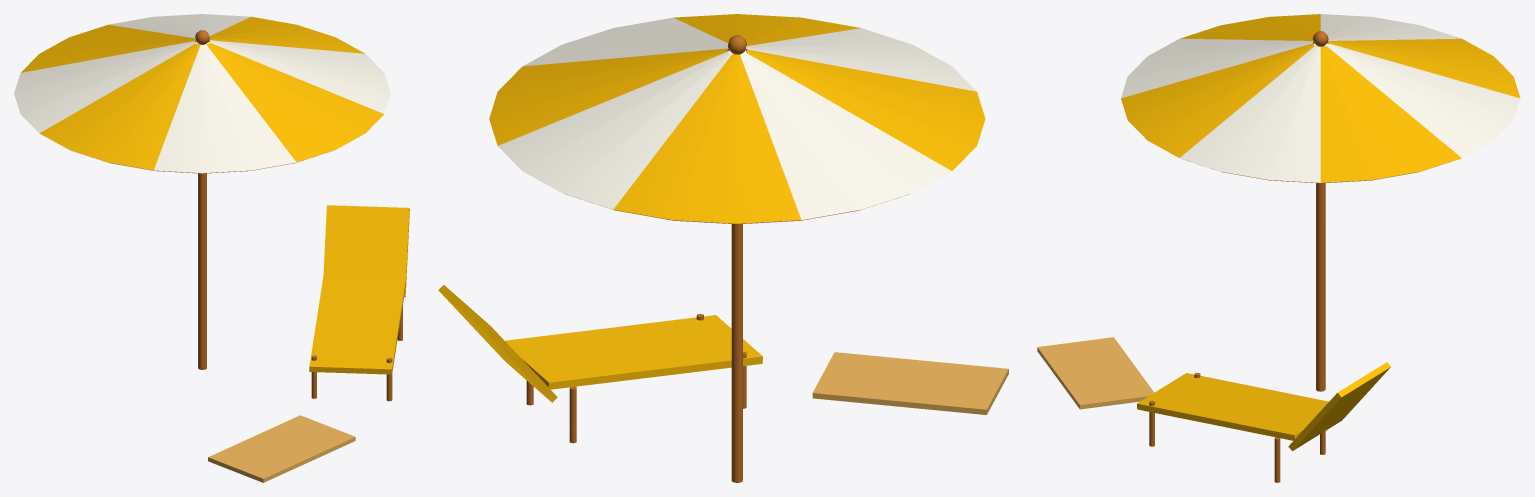
File: parasol-jaune.glb
3 renders of one model, left to right at view 1: azimuth 30°, elevation 25°; view 2: azimuth 150°, elevation 25°; view 3: azimuth 270°, elevation 25°, orthographic. The views are drawn at different scales.
Visible parts, largest first — view 1: toile__jaune, toile__blanc, mat__jaune, mat__orange2, mat__orange; view 2: toile__blanc, toile__jaune, mat__jaune, mat__orange2, mat__orange; view 3: toile__jaune, toile__blanc, mat__jaune, mat__orange2, mat__orange.
Boxes of the visible parts, x1,y1,x2,y2 form: toile__jaune: (21, 16, 384, 170); toile__blanc: (14, 14, 390, 173); mat__jaune: (309, 205, 409, 374); mat__orange2: (208, 415, 355, 482); mat__orange: (198, 173, 402, 401); toile__blanc: (498, 17, 976, 219); toile__jaune: (489, 14, 985, 223); mat__jaune: (438, 285, 762, 402); mat__orange2: (812, 352, 1008, 414); mat__orange: (526, 224, 746, 482); toile__jaune: (1121, 14, 1520, 182); toile__blanc: (1121, 14, 1520, 182); mat__jaune: (1137, 362, 1390, 450); mat__orange2: (1037, 337, 1154, 409); mat__orange: (1149, 183, 1325, 482).
Size of the model in its own units: 2.89 by 2.45 by 3.
